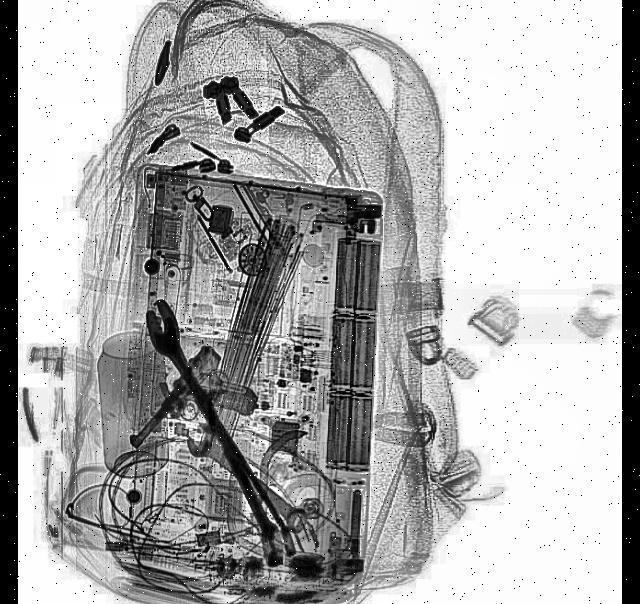Gun: (128, 342, 264, 502)
Wrench: (136, 296, 302, 570), (182, 413, 318, 543)
